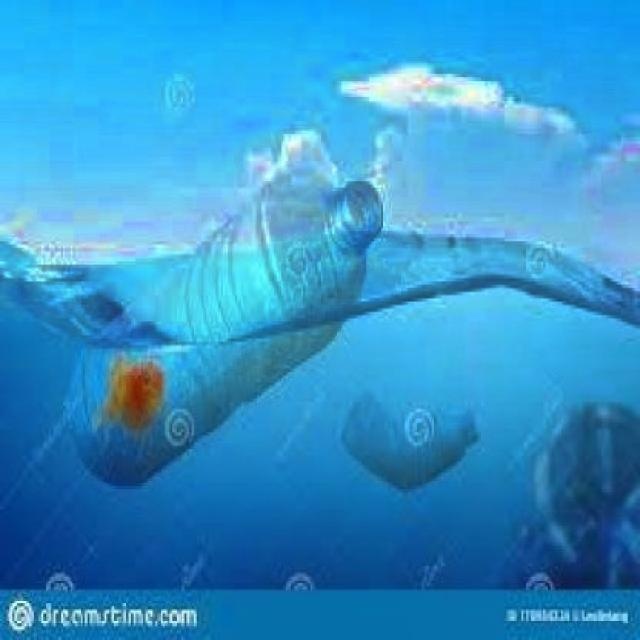pbottle: (53, 161, 381, 502), (349, 386, 485, 502)
